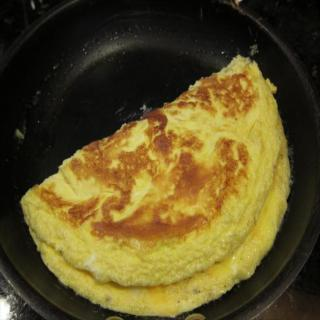Pancake: (16, 72, 300, 320)
